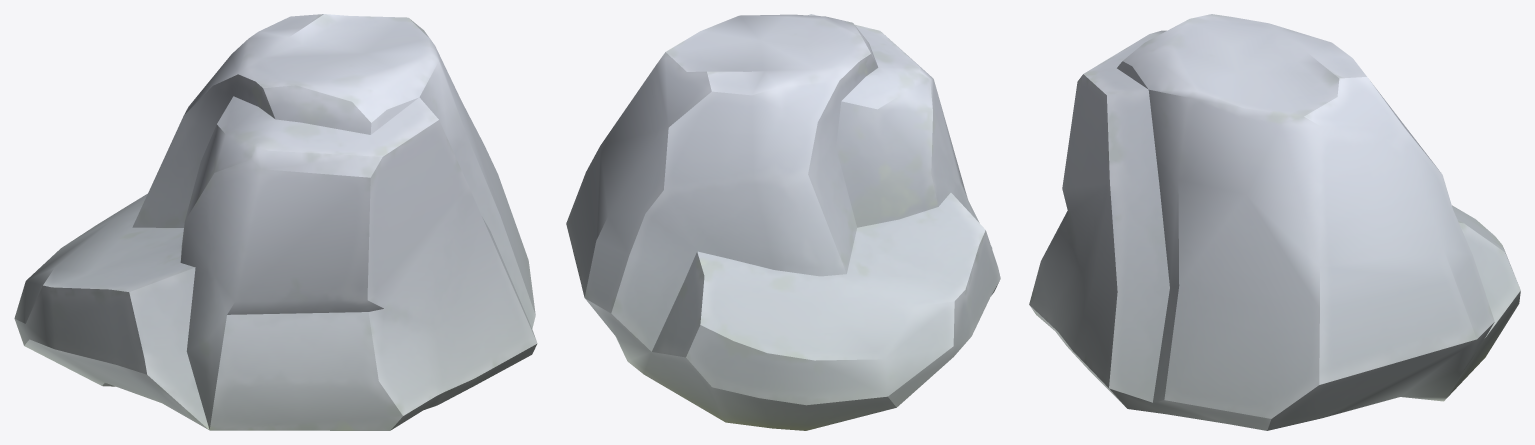
Rendered from SnowRock_Medium_1.obj.
The picture shows the model from 3 angles, left to right: view 1: azimuth 30°, elevation 25°; view 2: azimuth 150°, elevation 25°; view 3: azimuth 270°, elevation 25°; orthographic projection. The views are drawn at different scales.
Parts seen in each view (by area): view 1: SnowRock_Medium_1; view 2: SnowRock_Medium_1; view 3: SnowRock_Medium_1.
Boxes of the visible parts, box(x1,y1,x2,y2) form: SnowRock_Medium_1: box(14, 14, 537, 430); SnowRock_Medium_1: box(566, 14, 1000, 430); SnowRock_Medium_1: box(1029, 14, 1520, 430).
Bounding box in the file's own units: 3.23 × 2.26 × 2.99.
1 material, 1 textured.
